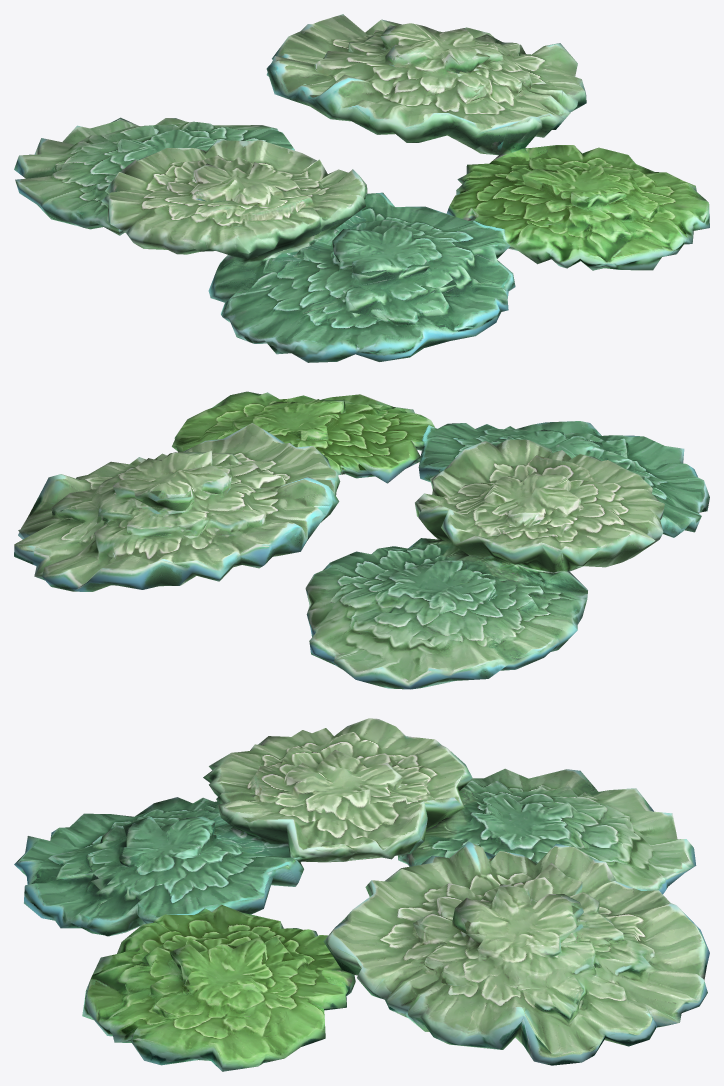
3 views of the same model, one above another, from view 1: azimuth 30°, elevation 25°; view 2: azimuth 150°, elevation 25°; view 3: azimuth 270°, elevation 25° (orthographic). The views are drawn at different scales.
Parts seen in each view (by area): view 1: Mesh_0; view 2: Mesh_0; view 3: Mesh_0.
Part boxes in pixels (box(x1,y1,x2,y2)): Mesh_0: box(14, 14, 709, 362); Mesh_0: box(14, 391, 709, 689); Mesh_0: box(14, 718, 709, 1071).
Size of the model in its own units: 1.87 by 0.3573 by 1.92.
Materials: 1 (1 with a texture image).
